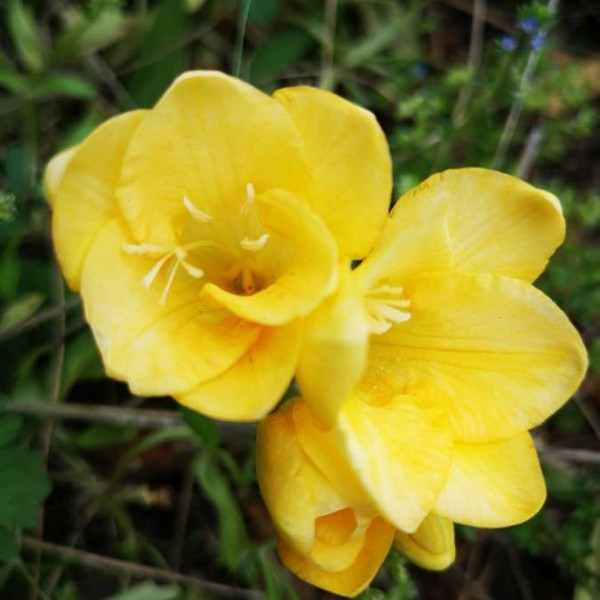obstacle: (57, 46, 576, 560)
